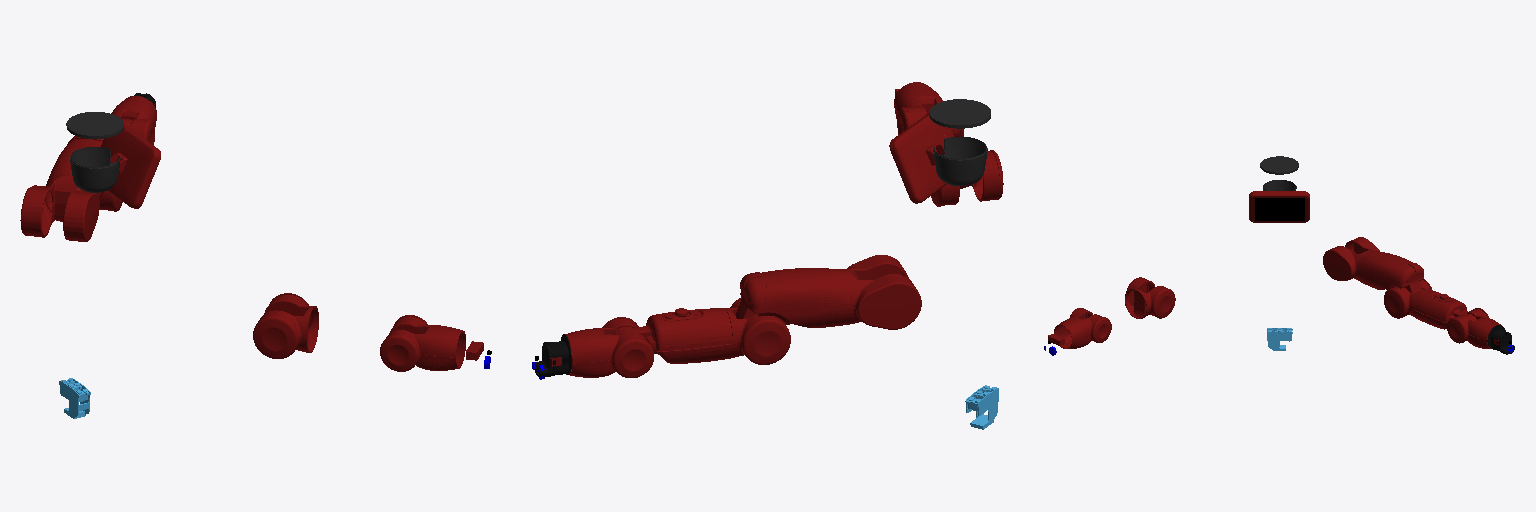
--- Render facts (derived) ---
The picture shows the robot from 3 angles, left to right: view 1: azimuth 30°, elevation 25°; view 2: azimuth 150°, elevation 25°; view 3: azimuth 270°, elevation 25°; orthographic projection.
Model baxter with 49 links and 48 joints (15 revolute, 33 fixed), rooted at base, posed all joints at 0.
Visible links, largest first — view 1: right_lower_forearm, left_lower_shoulder, right_lower_elbow, screen, head, sonar_ring, left_lower_forearm, torso, left_upper_elbow; view 2: left_upper_elbow, left_upper_forearm, left_lower_shoulder, left_lower_forearm, screen, left_lower_elbow, head, right_lower_forearm, right_lower_elbow, sonar_ring, torso, left_wrist; view 3: left_upper_elbow, right_lower_elbow, right_lower_forearm, left_upper_forearm, left_lower_shoulder, left_lower_forearm, display, left_lower_elbow, screen, sonar_ring.
Boxes of the visible links, x1,y1,x2,y2 form: right_lower_forearm: (380,315,465,371); left_lower_shoulder: (20,174,99,241); right_lower_elbow: (253,293,318,358); screen: (101,124,160,208); head: (70,147,120,192); sonar_ring: (66,112,123,138); left_lower_forearm: (111,96,156,144); torso: (59,378,90,418); left_upper_elbow: (45,136,103,212); left_upper_elbow: (736,268,851,327); left_upper_forearm: (611,308,732,363); left_lower_shoulder: (843,255,921,329); left_lower_forearm: (565,317,653,377); screen: (889,113,953,203); left_lower_elbow: (725,297,790,364); head: (933,137,987,185); right_lower_forearm: (894,82,963,136); right_lower_elbow: (931,150,1003,206); sonar_ring: (929,99,990,128); torso: (965,385,998,429); left_wrist: (534,334,571,376); left_upper_elbow: (1357,250,1423,292); right_lower_elbow: (1125,277,1175,318); right_lower_forearm: (1054,308,1111,348); left_upper_forearm: (1412,289,1476,329); left_lower_shoulder: (1323,237,1379,280); left_lower_forearm: (1447,308,1500,348); display: (1255,198,1304,220); left_lower_elbow: (1384,279,1431,318); screen: (1249,191,1309,222); sonar_ring: (1260,156,1298,174).
Bounding box of the posed robot: 0.8683 × 2.06 × 0.9265 m (x, y, z).
11 mesh visuals loaded from 15 distinct referenced files (9 OBJ); not drawn: 7 (reference not matched to a file when rendering).

URDF robot description (baxter):
<?xml version="1.0" ?>
<!-- ============================================================================================== -->
<!-- |                                                                                            | -->
<!-- |    baxter.urdf is DEPRECATED. It is included here for backward compatibility.              | -->
<!-- |    Please use baxter.urdf.xacro by running:                                                | -->
<!-- |$ rosrun xacro xacro.py - -inorder `rospack find baxter_description`/urdf/baxter.urdf.xacro | -->
<!-- |                                                                                            | -->
<!-- ============================================================================================== -->
<robot name="baxter">
  <link name="base">
  </link>
  <link name="torso">
    <visual>
      <origin rpy="0 0 0" xyz="0 0 0"/>
      <geometry>
        <mesh filename="package://baxter_description/meshes/torso/base_link.obj"/>
      </geometry>
    </visual>
    <collision>
      <origin rpy="0 0 0" xyz="0 0 0"/>
      <geometry>
        <mesh filename="package://baxter_description/meshes/torso/base_link_collision.obj"/>
      </geometry>
    </collision>
    <inertial>
      <origin rpy="0 0 0" xyz="0.000000 0.000000 0.000000"/>
      <mass value="35.336455"/>
      <inertia ixx="1.849155" ixy="-0.000354" ixz="-0.154188" iyy="1.662671" iyz="0.003292" izz="0.802239"/>
    </inertial>
  </link>
  <link name="left_torso_itb">
    <inertial>
      <origin rpy="0 0 0" xyz="0.000000 0.000000 0.000000"/>
      <mass value="0.0001"/>
      <inertia ixx="1e-08" ixy="0" ixz="0" iyy="1e-08" iyz="0" izz="1e-08"/>
    </inertial>
  </link>
  <link name="right_torso_itb">
    <inertial>
      <origin rpy="0 0 0" xyz="0.000000 0.000000 0.000000"/>
      <mass value="0.0001"/>
      <inertia ixx="1e-08" ixy="0" ixz="0" iyy="1e-08" iyz="0" izz="1e-08"/>
    </inertial>
  </link>
  <link name="pedestal">
    <visual>
      <origin rpy="0 0 0" xyz="0 0 0"/>
      <geometry>
        <mesh filename="package://baxter_description/meshes/base/PEDESTAL.obj"/>
      </geometry>
      <material name="darkgray">
        <color rgba=".2 .2 .2 1"/>
      </material>
    </visual>
    <collision>
      <origin rpy="0 0 0" xyz="0 0 0"/>
      <geometry>
        <mesh filename="package://baxter_description/meshes/base/pedestal_link_collision.obj"/>
      </geometry>
    </collision>
    <inertial>
      <origin rpy="0 0 0" xyz="0 0 0"/>
      <mass value="60.86397744"/>
      <inertia ixx="5.0635929" ixy="0.00103417" ixz="0.80199628" iyy="6.08689388" iyz="0.00105311" izz="4.96191932"/>
    </inertial>
  </link>
  <link name="head">
    <visual>
      <origin rpy="0 0 0" xyz="0 0 .00953"/>
      <geometry>
        <mesh filename="package://baxter_description/meshes/head/H0.obj"/>
      </geometry>
      <material name="darkgray">
        <color rgba=".2 .2 .2 1"/>
      </material>
    </visual>
    <collision>
      <origin rpy="0 0 0" xyz="0.0 0 0.0"/>
      <geometry>
        <sphere radius="0.001"/>
      </geometry>
    </collision>
    <inertial>
      <origin rpy="0 0 0" xyz="0 0 0"/>
      <mass value="0.547767"/>
      <inertia ixx="0.004641" ixy="0.000159" ixz="0.000242" iyy="0.003295" iyz="-0.001324" izz="0.003415"/>
    </inertial>
  </link>
  <link name="sonar_ring">
    <visual>
      <origin rpy="0 0 0" xyz="-.0347 0 .00953"/>
      <geometry>
        <cylinder length="0.01" radius="0.085"/>
      </geometry>
      <material name="darkgray">
        <color rgba=".2 .2 .2 1"/>
      </material>
    </visual>
    <collision>
      <origin rpy="0 0 0" xyz="0.0 0 0.0"/>
      <geometry>
        <sphere radius="0.001"/>
      </geometry>
    </collision>
    <inertial>
      <origin rpy="0 0 0" xyz="0 0 0"/>
      <mass value="0.0001"/>
      <inertia ixx="1e-08" ixy="0" ixz="0" iyy="1e-08" iyz="0" izz="1e-08"/>
    </inertial>
  </link>
  <link name="screen">
    <visual>
      <origin rpy="0 -1.57079632679 0" xyz="0 -.00953 -.0347"/>
      <geometry>
        <mesh filename="package://baxter_description/meshes/head/H1.obj"/>
      </geometry>
      <material name="darkred">
        <color rgba=".5 .1 .1 1"/>
      </material>
    </visual>
    <collision>
      <origin rpy="0 0 0" xyz="0.0 0 0.0"/>
      <geometry>
        <sphere radius="0.001"/>
      </geometry>
    </collision>
    <inertial>
      <origin rpy="0 0 0" xyz="0 0 0"/>
      <mass value="0.440171"/>
      <inertia ixx="0.004006" ixy="0.000230" ixz="0.000002" iyy="0.002800" iyz="0.000029" izz="0.001509"/>
    </inertial>
  </link>
  <link name="display">
    <visual>
      <origin rpy="0.2617993877991494 0 0" xyz="0 0 0"/>
      <geometry>
        <box size="0.218 0.16 0.001"/>
      </geometry>
      <material name="black">
        <color rgba="0 0 0 1"/>
      </material>
    </visual>
    <inertial>
      <origin rpy="0 0 0" xyz="0 0 0"/>
      <mass value="0.0001"/>
      <inertia ixx="1e-08" ixy="0" ixz="0" iyy="1e-08" iyz="0" izz="1e-08"/>
    </inertial>
  </link>
  <link name="head_camera">
    <inertial>
      <origin rpy="0 0 0" xyz="0 0 0"/>
      <mass value="0.0001"/>
      <inertia ixx="1e-08" ixy="0" ixz="0" iyy="1e-08" iyz="0" izz="1e-08"/>
    </inertial>
  </link>
  <link name="dummyhead1">
    <inertial>
      <origin rpy="0 0 0" xyz="0 0 0"/>
      <mass value="0.0001"/>
      <inertia ixx="1e-08" ixy="0" ixz="0" iyy="1e-08" iyz="0" izz="1e-08"/>
    </inertial>
  </link>
  <link name="collision_head_link_1">
    <visual>
      <origin rpy="0 0 0" xyz="0 0 0"/>
      <geometry>
        <sphere radius="0.001"/>
      </geometry>
      <material name="red">
        <color rgba="0.8 0.3 0.3 0.3"/>
      </material>
    </visual>
    <collision>
      <origin rpy="0 0 0.0" xyz="-0.07 -0.04 0.0"/>
      <geometry>
        <sphere radius="0.22"/>
      </geometry>
    </collision>
    <inertial>
      <origin rpy="0 0 0" xyz="0 0 0"/>
      <mass value="0.0001"/>
      <inertia ixx="1e-08" ixy="0" ixz="0" iyy="1e-08" iyz="0" izz="1e-08"/>
    </inertial>
  </link>
  <link name="collision_head_link_2">
    <visual>
      <origin rpy="0 0 0" xyz="0 0 0"/>
      <geometry>
        <sphere radius="0.001"/>
      </geometry>
      <material name="red">
        <color rgba="0.8 0.3 0.3 0.3"/>
      </material>
    </visual>
    <collision>
      <origin rpy="0 0 0" xyz="-0.07 0.04 0.00"/>
      <geometry>
        <sphere radius="0.22"/>
      </geometry>
    </collision>
    <inertial>
      <origin rpy="0 0 0" xyz="0 0 0"/>
      <mass value="0.0001"/>
      <inertia ixx="1e-08" ixy="0" ixz="0" iyy="1e-08" iyz="0" izz="1e-08"/>
    </inertial>
  </link>
  <joint name="collision_head_1" type="fixed">
    <origin rpy="0 0 0" xyz="0.11 0 0.75"/>
    <parent link="base"/>
    <child link="collision_head_link_1"/>
  </joint>
  <joint name="collision_head_2" type="fixed">
    <origin rpy="0 0 0" xyz="0.11 0 0.75"/>
    <parent link="base"/>
    <child link="collision_head_link_2"/>
  </joint>
  <joint name="dummy" type="fixed">
    <origin rpy="0 0 0" xyz="0 0 0"/>
    <parent link="head"/>
    <child link="dummyhead1"/>
  </joint>
  <joint name="torso_t0" type="fixed">
    <origin rpy="0 0 0" xyz="0 0 0"/>
    <parent link="base"/>
    <child link="torso"/>
    <limit effort="50000" lower="-3.01" upper="3.01" velocity="10000"/>
  </joint>
  <joint name="left_torso_itb_fixed" type="fixed">
    <origin rpy="-1.57079632679 3.1415 0" xyz="-0.08897 0.15593 0.389125"/>
    <parent link="torso"/>
    <child link="left_torso_itb"/>
  </joint>
  <joint name="right_torso_itb_fixed" type="fixed">
    <origin rpy="1.57079632679 0 0" xyz="-0.08897 -0.15593 0.389125"/>
    <parent link="torso"/>
    <child link="right_torso_itb"/>
  </joint>
  <joint name="pedestal_fixed" type="fixed">
    <origin rpy="0 0 0" xyz="0.0 0.0 0.0"/>
    <parent link="torso"/>
    <child link="pedestal"/>
  </joint>
  <joint name="head_pan" type="revolute">
    <origin rpy="0 0 0" xyz="0.06 0 0.686"/>
    <axis xyz="0 0 1"/>
    <parent link="torso"/>
    <child link="head"/>
    <limit effort="50000" lower="-1.57079632679" upper="1.57079632679" velocity="10000"/>
    <dynamics damping="0.7" friction="0.0"/>
  </joint>
  <joint name="head_nod" type="fixed">
    <origin rpy="1.75057 0 1.57079632679" xyz=".1227 0 0"/>
    <parent link="head"/>
    <child link="screen"/>
  </joint>
  <joint name="head_camera" type="fixed">
    <origin rpy="1.75057 0 1.57079632679" xyz="0.12839 0 0.06368"/>
    <parent link="head"/>
    <child link="head_camera"/>
  </joint>
  <joint name="display_joint" type="fixed">
    <origin rpy="0 0 0" xyz="0.0 -0.016 0.0"/>
    <parent link="screen"/>
    <child link="display"/>
  </joint>
  <joint name="sonar_s0" type="fixed">
    <origin rpy="0 0 0" xyz="0.0947 0 .817"/>
    <axis xyz="0 0 1"/>
    <parent link="torso"/>
    <child link="sonar_ring"/>
  </joint>
  <link name="right_arm_mount">
    <!-- all defaults -->
 <gravity>0</gravity>
    <inertial>
      <origin rpy="0 0 0" xyz="0 0 0"/>
      <mass value="0.0001"/>
      <inertia ixx="1e-08" ixy="0" ixz="0" iyy="1e-08" iyz="0" izz="1e-08"/>
    </inertial>
  </link>
  <link name="right_upper_shoulder">
 <gravity>0</gravity>
    <visual>
      <origin rpy="0 0 0" xyz="0 0 0"/>
      <geometry>
        <mesh filename="package://baxter_description/meshes/upper_shoulder/S0.DAE"/>
      </geometry>
      <material name="darkred">
        <color rgba=".5 .1 .1 1"/>
      </material>
    </visual>
    <collision>
      <origin rpy="0 0 0" xyz="0 0 0.1361"/>
      <geometry>
        <cylinder length="0.2722" radius="0.06"/>
      </geometry>
    </collision>
    <inertial>
      <origin rpy="0 0 0" xyz="0.01783 0.00086 0.19127"/>
      <mass value="5.70044"/>
      <inertia ixx="0.04709102262" ixy="0.00012787556" ixz="0.00614870039" iyy="0.03766976455" iyz="0.00078086899" izz="0.03595988478"/>
    </inertial>
  </link>
  <link name="right_lower_shoulder">
 <gravity>0</gravity>
    <visual>
      <origin rpy="0 0 0" xyz="0 0 0"/>
      <geometry>
        <mesh filename="package://baxter_description/meshes/lower_shoulder/S1.DAE"/>
      </geometry>
      <material name="darkred">
        <color rgba=".5 .1 .1 1"/>
      </material>
    </visual>
    <collision>
      <origin rpy="0 0 0" xyz="0 0 0"/>
      <geometry>
        <cylinder length="0.12" radius="0.06"/>
      </geometry>
    </collision>
    <inertial>
      <origin rpy="0 0 0" xyz="0.06845 0.00269 -0.00529"/>
      <mass value="3.22698"/>
      <inertia ixx="0.01175209419" ixy="-0.00030096398" ixz="0.00207675762" iyy="0.0278859752" iyz="-0.00018821993" izz="0.02078749298"/>
    </inertial>
  </link>
  <link name="right_upper_elbow">
 <gravity>0</gravity>
    <visual>
      <origin rpy="0 0 0" xyz="0 0 0"/>
      <geometry>
        <mesh filename="package://baxter_description/meshes/upper_elbow/E0.DAE"/>
      </geometry>
      <material name="darkred">
        <color rgba=".5 .1 .1 1"/>
      </material>
    </visual>
    <collision>
      <origin rpy="0 0 0" xyz="0 0 -0.0535"/>
      <geometry>
        <cylinder length="0.107" radius="0.06"/>
      </geometry>
    </collision>
    <inertial>
      <origin rpy="0 0 0" xyz="-0.00276 0.00132 0.18086"/>
      <mass value="4.31272"/>
      <inertia ixx="0.02661733557" ixy="0.00029270634" ixz="0.00392189887" iyy="0.02844355207" iyz="0.0010838933" izz="0.01248008322"/>
    </inertial>
  </link>
  <link name="right_upper_elbow_visual">
 <gravity>0</gravity>
    <collision>
      <origin rpy="0 0 0" xyz="0 0 0.1365"/>
      <geometry>
        <cylinder length="0.273" radius="0.06"/>
      </geometry>
    </collision>
    <inertial>
      <origin rpy="0 0 0" xyz="0 0 0"/>
      <mass value="0.0001"/>
      <inertia ixx="1e-08" ixy="0" ixz="0" iyy="1e-08" iyz="0" izz="1e-08"/>
    </inertial>
  </link>
  <link name="right_lower_elbow">
 <gravity>0</gravity>
    <visual>
      <origin rpy="0 0 0" xyz="0 0 0"/>
      <geometry>
        <mesh filename="package://baxter_description/meshes/lower_elbow/E1.obj"/>
      </geometry>
      <material name="darkred">
        <color rgba=".5 .1 .1 1"/>
      </material>
    </visual>
    <collision>
      <origin rpy="0 0 0" xyz="0.0 0.0 0.0"/>
      <geometry>
        <cylinder length="0.10" radius="0.06"/>
      </geometry>
    </collision>
    <inertial>
      <origin rpy="0 0 0" xyz="0.02611 0.00159 -0.01117"/>
      <mass value="2.07206"/>
      <inertia ixx="0.00711582686" ixy="0.00036036173" ixz="0.0007459496" iyy="0.01318227876" iyz="-0.00019663418" izz="0.00926852064"/>
    </inertial>
  </link>
  <link name="right_upper_forearm">
 <gravity>0</gravity>
    <visual>
      <origin rpy="0 0 0" xyz="0 0 0"/>
      <geometry>
        <mesh filename="package://baxter_description/meshes/upper_forearm/W0.DAE"/>
      </geometry>
      <material name="darkred">
        <color rgba=".5 .1 .1 1"/>
      </material>
    </visual>
    <collision>
      <origin rpy="0 0 0" xyz="0 0 -0.044"/>
      <geometry>
        <cylinder length="0.088" radius="0.06"/>
      </geometry>
    </collision>
    <inertial>
      <origin rpy="0 0 0" xyz="-0.00168 0.0046 0.13952"/>
      <mass value="2.24665"/>
      <inertia ixx="0.01667742825" ixy="0.00018403705" ixz="0.00018657629" iyy="0.01675457264" iyz="-0.00064732352" izz="0.0037463115"/>
    </inertial>
  </link>
  <link name="right_upper_forearm_visual">
 <gravity>0</gravity>
    <collision>
      <origin rpy="0 0 0" xyz="0 0 0.136"/>
      <geometry>
        <cylinder length="0.272" radius="0.06"/>
      </geometry>
    </collision>
    <inertial>
      <origin rpy="0 0 0" xyz="0 0 0"/>
      <mass value="0.0001"/>
      <inertia ixx="1e-08" ixy="0" ixz="0" iyy="1e-08" iyz="0" izz="1e-08"/>
    </inertial>
  </link>
  <link name="right_arm_itb">
 <gravity>0</gravity>
    <inertial>
      <origin rpy="0 0 0" xyz="0.000000 0.000000 0.000000"/>
      <mass value="0.0001"/>
      <inertia ixx="1e-08" ixy="0" ixz="0" iyy="1e-08" iyz="0" izz="1e-08"/>
    </inertial>
  </link>
  <link name="right_lower_forearm">
 <gravity>0</gravity>
    <visual>
      <origin rpy="0 0 0" xyz="0 0 0"/>
      <geometry>
        <mesh filename="package://baxter_description/meshes/lower_forearm/W1.obj"/>
      </geometry>
      <material name="darkred">
        <color rgba=".5 .1 .1 1"/>
      </material>
    </visual>
    <collision>
      <origin rpy="0 0 0" xyz="0 0 0"/>
      <geometry>
        <cylinder length="0.10" radius="0.06"/>
      </geometry>
    </collision>
    <inertial>
      <origin rpy="0 0 0" xyz="0.06041 0.00697 0.006"/>
      <mass value="1.60979"/>
      <inertia ixx="0.00387607152" ixy="-0.00044384784" ixz="-0.00021115038" iyy="0.00700537914" iyz="0.00015348067" izz="0.0055275524"/>
    </inertial>
  </link>
  <link name="right_wrist">
 <gravity>0</gravity>
    <visual>
      <origin rpy="0 0 0" xyz="0 0 0"/>
      <geometry>
        <mesh filename="package://baxter_description/meshes/wrist/W2.DAE"/>
      </geometry>
      <material name="lightgrey">
        <color rgba=".1 .1 .1 1"/>
      </material>
    </visual>
    <collision>
      <origin rpy="0 0 0" xyz="0 0 0"/>
      <geometry>
        <cylinder length="0.165" radius="0.06"/>
      </geometry>
    </collision>
    <inertial>
      <origin rpy="0 0 0" xyz="0.00198 0.00125 0.01855"/>
      <mass value="0.35093"/>
      <inertia ixx="0.00025289155" ixy="0.00000575311" ixz="-0.00000159345" iyy="0.0002688601" iyz="-0.00000519818" izz="0.0003074118"/>
    </inertial>
  </link>
  <link name="right_hand">
 <gravity>0</gravity>
    <collision>
      <origin rpy="0 0 0" xyz="0 0 -0.0232"/>
      <geometry>
        <cylinder length="0.0464" radius="0.04"/>
      </geometry>
    </collision>
    <inertial>
      <origin rpy="0 0 0" xyz="0.01093 0.00042 -0.01532"/>
      <mass value="0.19125"/>
      <inertia ixx="0.00017588" ixy="0.00000147073" ixz="0.0000243633" iyy="0.00021166377" iyz="0.00000172689" izz="0.00023745397"/>
    </inertial>
  </link>
  <link name="right_hand_camera">
 <gravity>0</gravity>
    <visual>
      <origin rpy="0 0 0" xyz="0 0 0"/>
      <geometry>
        <cylinder length="0.01" radius="0.02"/>
      </geometry>
      <material name="blue">
        <color rgba="0 0 1 0.8"/>
      </material>
    </visual>
    <inertial>
      <origin rpy="0 0 0" xyz="0 0 0"/>
      <mass value="0.0001"/>
      <inertia ixx="1e-08" ixy="0" ixz="0" iyy="1e-08" iyz="0" izz="1e-08"/>
    </inertial>
  </link>
  <link name="right_hand_camera_axis">
 <gravity>0</gravity>
    <inertial>
      <origin rpy="0 0 0" xyz="0 0 0"/>
      <mass value="0.0001"/>
      <inertia ixx="1e-08" ixy="0" ixz="0" iyy="1e-08" iyz="0" izz="1e-08"/>
    </inertial>
  </link>
  <link name="right_hand_range">
 <gravity>0</gravity>
    <visual>
      <origin rpy="0 0 0" xyz="0 0 0"/>
      <geometry>
        <box size="0.005 .02 .005"/>
      </geometry>
      <material name="blue">
        <color rgba="0 0 1 0.8"/>
      </material>
    </visual>
    <inertial>
      <origin rpy="0 0 0" xyz="0 0 0"/>
      <mass value="0.0001"/>
      <inertia ixx="1e-08" ixy="0" ixz="0" iyy="1e-08" iyz="0" izz="1e-08"/>
    </inertial>
  </link>
  <link name="right_hand_accelerometer">
 <gravity>0</gravity>
    <visual>
      <origin rpy="0 0 0" xyz="0 0 0"/>
      <geometry>
        <box size="0.01 0.01 0.01"/>
      </geometry>
      <material name="black">
        <color rgba="0 0 0 1"/>
      </material>
    </visual>
    <inertial>
      <origin rpy="0 0 0" xyz="0.000000 0.000000 0.000000"/>
      <mass value="0.0001"/>
      <inertia ixx="1e-08" ixy="0" ixz="0" iyy="1e-08" iyz="0" izz="1e-08"/>
    </inertial>
  </link>
  <link name="right_gripper_base">
 <gravity>0</gravity>
    <visual>
      <origin rpy="0 0 0" xyz="0 0 -0.02"/>
      <geometry>
        <box size="0.025 0.075 0.035"/>
      </geometry>
      <material name="darkred">
        <color rgba=".5 .1 .1 1"/>
      </material>
    </visual>
    <inertial>
      <origin rpy="0 0 0" xyz="0.000000 0.000000 0.000000"/>
      <mass value="0.0001"/>
      <inertia ixx="1e-08" ixy="0" ixz="0" iyy="1e-08" iyz="0" izz="1e-08"/>
    </inertial>
  </link>
  <link name="right_gripper">
 <gravity>0</gravity>
    <visual>
      <origin rpy="0 0 0" xyz="0 0 0"/>
      <geometry>
        <box size="0.01 0.01 0.01"/>
      </geometry>
      <material name="black">
        <color rgba="0 0 0 1"/>
      </material>
    </visual>
    <inertial>
      <origin rpy="0 0 0" xyz="0.000000 0.000000 0.000000"/>
      <mass value="0.0001"/>
      <inertia ixx="1e-08" ixy="0" ixz="0" iyy="1e-08" iyz="0" izz="1e-08"/>
    </inertial>
  </link>
  <joint name="right_torso_arm_mount" type="fixed">
    <origin rpy="0 0 -0.7854" xyz="0.024645 -0.219645 0.118588"/>
    <parent link="torso"/>
    <child link="right_arm_mount"/>
  </joint>
  <joint name="right_s0" type="revolute">
    <origin rpy="0 0 0" xyz="0.055695 0 0.011038"/>
    <axis xyz="0 0 1"/>
    <parent link="right_arm_mount"/>
    <child link="right_upper_shoulder"/>
    <limit effort="50.0" lower="-1.70167993878" upper="1.70167993878" velocity="1.5"/>
    <dynamics damping="0.7" friction="0.0"/>
  </joint>
  <joint name="right_s1" type="revolute">
    <origin rpy="-1.57079632679 0 0" xyz="0.069 0 0.27035"/>
    <axis xyz="0 0 1"/>
    <parent link="right_upper_shoulder"/>
    <child link="right_lower_shoulder"/>
    <limit effort="100.0" lower="-2.147" upper="1.047" velocity="1.5"/>
    <dynamics damping="0.7" friction="0.0"/>
  </joint>
  <joint name="right_e0" type="revolute">
    <origin rpy="1.57079632679 0 1.57079632679" xyz="0.102 0 0"/>
    <axis xyz="0 0 1"/>
    <parent link="right_lower_shoulder"/>
    <child link="right_upper_elbow"/>
    <limit effort="50.0" lower="-3.05417993878" upper="3.05417993878" velocity="1.5"/>
    <dynamics damping="0.7" friction="0.0"/>
  </joint>
  <joint name="right_e0_fixed" type="fixed">
    <origin rpy="1.57079632679 0 1.57079632679" xyz="0.107 0 0"/>
    <axis xyz="0 0 1"/>
    <parent link="right_lower_shoulder"/>
    <child link="right_upper_elbow_visual"/>
  </joint>
  <joint name="right_e1" type="revolute">
    <origin rpy="-1.57079632679 -1.57079632679 0" xyz="0.069 0 0.26242"/>
    <axis xyz="0 0 1"/>
    <parent link="right_upper_elbow"/>
    <child link="right_lower_elbow"/>
    <limit effort="50.0" lower="-0.05" upper="2.618" velocity="1.5"/>
    <dynamics damping="0.7" friction="0.0"/>
  </joint>
  <joint name="right_w0" type="revolute">
    <origin rpy="1.57079632679 0 1.57079632679" xyz="0.10359 0 0"/>
    <axis xyz="0 0 1"/>
    <parent link="right_lower_elbow"/>
    <child link="right_upper_forearm"/>
    <limit effort="15.0" lower="-3.059" upper="3.059" velocity="4.0"/>
    <dynamics damping="0.7" friction="0.0"/>
  </joint>
  <joint name="right_w0_fixed" type="fixed">
    <origin rpy="1.57079632679 0 1.57079632679" xyz="0.088 0 0"/>
    <axis xyz="0 0 1"/>
    <parent link="right_lower_elbow"/>
    <child link="right_upper_forearm_visual"/>
  </joint>
  <joint name="right_w0_to_itb_fixed" type="fixed">
    <origin rpy="-1.57079632679 0 1.57079632679" xyz="-0.0565 0 0.12"/>
    <axis xyz="0 0 1"/>
    <parent link="right_upper_forearm"/>
    <child link="right_arm_itb"/>
  </joint>
  <joint name="right_w1" type="revolute">
    <origin rpy="-1.57079632679 -1.57079632679 0" xyz="0.01 0 0.2707"/>
    <axis xyz="0 0 1"/>
    <parent link="right_upper_forearm"/>
    <child link="right_lower_forearm"/>
    <limit effort="15.0" lower="-1.57079632679" upper="2.094" velocity="4.0"/>
    <dynamics damping="0.7" friction="0.0"/>
  </joint>
  <joint name="right_w2" type="revolute">
    <origin rpy="1.57079632679 0 1.57079632679" xyz="0.115975 0 0"/>
    <axis xyz="0 0 1"/>
    <parent link="right_lower_forearm"/>
    <child link="right_wrist"/>
    <limit effort="15.0" lower="-3.059" upper="3.059" velocity="4.0"/>
    <dynamics damping="0.7" friction="0.0"/>
  </joint>
  <joint name="right_hand" type="fixed">
    <origin rpy="0 0 0" xyz="0 0 0.11355"/>
    <axis xyz="0 0 1"/>
    <parent link="right_wrist"/>
    <child link="right_hand"/>
    <dynamics damping="0.7" friction="0.0"/>
  </joint>
  <joint name="right_hand_camera" type="fixed">
    <origin rpy="0 0 -1.57079633" xyz="0.03825 0.012 0.015355"/>
    <parent link="right_hand"/>
    <child link="right_hand_camera"/>
  </joint>
  <joint name="right_hand_camera_axis" type="fixed">
    <origin rpy="0 0 0" xyz="0.03825 0.012 0.015355"/>
    <parent link="right_hand"/>
    <child link="right_hand_camera_axis"/>
  </joint>
  <joint name="right_hand_range" type="fixed">
    <origin rpy="0 -1.57079632679 -1.57079632679" xyz="0.032 -0.020245 0.0288"/>
    <parent link="right_hand"/>
    <child link="right_hand_range"/>
  </joint>
  <joint name="right_hand_accelerometer" type="fixed">
    <origin rpy="0 0 0" xyz="0.00198 0.000133 -0.0146"/>
    <parent link="right_hand"/>
    <child link="right_hand_accelerometer"/>
  </joint>
  <joint name="right_gripper_base" type="fixed">
    <origin rpy="0 0 0" xyz="0 0 0"/>
    <parent link="right_hand"/>
    <child link="right_gripper_base"/>
  </joint>
  <joint name="right_endpoint" type="fixed">
    <origin rpy="0 0 0" xyz="0.0 0 0.025"/>
    <parent link="right_gripper_base"/>
    <child link="right_gripper"/>
  </joint>
  <link name="left_arm_mount">
    <!-- all defaults -->
 <gravity>0</gravity>
    <inertial>
      <origin rpy="0 0 0" xyz="0 0 0"/>
      <mass value="0.0001"/>
      <inertia ixx="1e-08" ixy="0" ixz="0" iyy="1e-08" iyz="0" izz="1e-08"/>
    </inertial>
  </link>
  <link name="left_upper_shoulder">
 <gravity>0</gravity>
    <visual>
      <origin rpy="0 0 0" xyz="0 0 0"/>
      <geometry>
        <mesh filename="package://baxter_description/meshes/upper_shoulder/S0.DAE"/>
      </geometry>
      <material name="darkred">
        <color rgba=".5 .1 .1 1"/>
      </material>
    </visual>
    <collision>
      <origin rpy="0 0 0" xyz="0 0 0.1361"/>
      <geometry>
        <cylinder length="0.2722" radius="0.06"/>
      </geometry>
    </collision>
    <inertial>
      <origin rpy="0 0 0" xyz="0.01783 0.00086 0.19127"/>
      <mass value="5.70044"/>
      <inertia ixx="0.04709102262" ixy="0.00012787556" ixz="0.00614870039" iyy="0.03766976455" iyz="0.00078086899" izz="0.03595988478"/>
    </inertial>
  </link>
  <link name="left_lower_shoulder">
 <gravity>0</gravity>
    <visual>
      <origin rpy="0 0 0" xyz="0 0 0"/>
      <geometry>
        <mesh filename="package://baxter_description/meshes/lower_shoulder/S1.obj"/>
      </geometry>
      <material name="darkred">
        <color rgba=".5 .1 .1 1"/>
      </material>
    </visual>
    <collision>
      <origin rpy="0 0 0" xyz="0 0 0"/>
      <geometry>
        <cylinder length="0.12" radius="0.06"/>
      </geometry>
    </collision>
    <inertial>
      <origin rpy="0 0 0" xyz="0.06845 0.00269 -0.00529"/>
      <mass value="3.22698"/>
      <inertia ixx="0.01175209419" ixy="-0.00030096398" ixz="0.00207675762" iyy="0.0278859752" iyz="-0.00018821993" izz="0.02078749298"/>
    </inertial>
  </link>
  <link name="left_upper_elbow">
 <gravity>0</gravity>
    <visual>
      <origin rpy="0 0 0" xyz="0 0 0"/>
      <geometry>
        <mesh filename="package://baxter_description/meshes/upper_elbow/E0.obj"/>
      </geometry>
      <material name="darkred">
        <color rgba=".5 .1 .1 1"/>
      </material>
    </visual>
    <collision>
      <origin rpy="0 0 0" xyz="0 0 -0.0535"/>
      <geometry>
        <cylinder length="0.107" radius="0.06"/>
      </geometry>
    </collision>
    <inertial>
      <origin rpy="0 0 0" xyz="-0.00276 0.00132 0.18086"/>
      <mass value="4.31272"/>
      <inertia ixx="0.02661733557" ixy="0.00029270634" ixz="0.00392189887" iyy="0.02844355207" iyz="0.0010838933" izz="0.01248008322"/>
    </inertial>
  </link>
  <link name="left_upper_elbow_visual">
 <gravity>0</gravity>
    <collision>
      <origin rpy="0 0 0" xyz="0 0 0.1365"/>
      <geometry>
        <cylinder length="0.273" radius="0.06"/>
      </geometry>
    </collision>
    <inertial>
      <origin rpy="0 0 0" xyz="0 0 0"/>
      <mass value="0.0001"/>
      <inertia ixx="1e-08" ixy="0" ixz="0" iyy="1e-08" iyz="0" izz="1e-08"/>
    </inertial>
  </link>
  <link name="left_lower_elbow">
 <gravity>0</gravity>
    <visual>
      <origin rpy="0 0 0" xyz="0 0 0"/>
      <geometry>
        <mesh filename="package://baxter_description/meshes/lower_elbow/E1.obj"/>
      </geometry>
      <material name="darkred">
        <color rgba=".5 .1 .1 1"/>
      </material>
    </visual>
    <collision>
      <origin rpy="0 0 0" xyz="0.0 0.0 0.0"/>
      <geometry>
        <cylinder length="0.10" radius="0.06"/>
      </geometry>
    </collision>
    <inertial>
      <origin rpy="0 0 0" xyz="0.02611 0.00159 -0.01117"/>
      <mass value="2.07206"/>
      <inertia ixx="0.00711582686" ixy="0.00036036173" ixz="0.0007459496" iyy="0.01318227876" iyz="-0.00019663418" izz="0.00926852064"/>
    </inertial>
  </link>
  <link name="left_upper_forearm">
 <gravity>0</gravity>
    <visual>
      <origin rpy="0 0 0" xyz="0 0 0"/>
      <geometry>
        <mesh filename="package://baxter_description/meshes/upper_forearm/W0.obj"/>
      </geometry>
      <material name="darkred">
        <color rgba=".5 .1 .1 1"/>
      </material>
    </visual>
    <collision>
      <origin rpy="0 0 0" xyz="0 0 -0.044"/>
      <geometry>
        <cylinder length="0.088" radius="0.06"/>
      </geometry>
    </collision>
    <inertial>
      <origin rpy="0 0 0" xyz="-0.00168 0.0046 0.13952"/>
      <mass value="2.24665"/>
      <inertia ixx="0.01667742825" ixy="0.00018403705" ixz="0.00018657629" iyy="0.01675457264" iyz="-0.00064732352" izz="0.0037463115"/>
    </inertial>
  </link>
  <link name="left_upper_forearm_visual">
 <gravity>0</gravity>
    <collision>
      <origin rpy="0 0 0" xyz="0 0 0.136"/>
      <geometry>
        <cylinder length="0.272" radius="0.06"/>
      </geometry>
    </collision>
    <inertial>
      <origin rpy="0 0 0" xyz="0 0 0"/>
      <mass value="0.0001"/>
      <inertia ixx="1e-08" ixy="0" ixz="0" iyy="1e-08" iyz="0" izz="1e-08"/>
    </inertial>
  </link>
  <link name="left_arm_itb">
 <gravity>0</gravity>
    <inertial>
      <origin rpy="0 0 0" xyz="0.000000 0.000000 0.000000"/>
      <mass value="0.0001"/>
      <inertia ixx="1e-08" ixy="0" ixz="0" iyy="1e-08" iyz="0" izz="1e-08"/>
    </inertial>
  </link>
  <link name="left_lower_forearm">
 <gravity>0</gravity>
    <visual>
      <origin rpy="0 0 0" xyz="0 0 0"/>
      <geometry>
        <mesh filename="package://baxter_description/meshes/lower_forearm/W1.obj"/>
      </geometry>
      <material name="darkred">
        <color rgba=".5 .1 .1 1"/>
      </material>
    </visual>
    <collision>
      <origin rpy="0 0 0" xyz="0 0 0"/>
      <geometry>
        <cylinder length="0.10" radius="0.06"/>
      </geometry>
    </collision>
    <inertial>
      <origin rpy="0 0 0" xyz="0.06041 0.00697 0.006"/>
      <mass value="1.60979"/>
      <inertia ixx="0.00387607152" ixy="-0.00044384784" ixz="-0.00021115038" iyy="0.00700537914" iyz="0.00015348067" izz="0.0055275524"/>
    </inertial>
  </link>
  <link name="left_wrist">
 <gravity>0</gravity>
    <visual>
      <origin rpy="0 0 0" xyz="0 0 0"/>
      <geometry>
        <mesh filename="package://baxter_description/meshes/wrist/W2.obj"/>
      </geometry>
      <material name="lightgrey">
        <color rgba=".1 .1 .1 1"/>
      </material>
    </visual>
    <collision>
      <origin rpy="0 0 0" xyz="0 0 0"/>
      <geometry>
        <cylinder length="0.165" radius="0.06"/>
      </geometry>
    </collision>
    <inertial>
      <origin rpy="0 0 0" xyz="0.00198 0.00125 0.01855"/>
      <mass value="0.35093"/>
      <inertia ixx="0.00025289155" ixy="0.00000575311" ixz="-0.00000159345" iyy="0.0002688601" iyz="-0.00000519818" izz="0.0003074118"/>
    </inertial>
  </link>
  <link name="left_hand">
 <gravity>0</gravity>
    <collision>
      <origin rpy="0 0 0" xyz="0 0 -0.0232"/>
      <geometry>
        <cylinder length="0.0464" radius="0.04"/>
      </geometry>
    </collision>
    <inertial>
      <origin rpy="0 0 0" xyz="0.01093 0.00042 -0.01532"/>
      <mass value="0.19125"/>
      <inertia ixx="0.00017588" ixy="0.00000147073" ixz="0.0000243633" iyy="0.00021166377" iyz="0.00000172689" izz="0.00023745397"/>
    </inertial>
  </link>
  <link name="left_hand_camera">
 <gravity>0</gravity>
    <visual>
      <origin rpy="0 0 0" xyz="0 0 0"/>
      <geometry>
        <cylinder length="0.01" radius="0.02"/>
      </geometry>
      <material name="blue">
        <color rgba="0 0 1 0.8"/>
      </material>
    </visual>
    <inertial>
      <origin rpy="0 0 0" xyz="0 0 0"/>
      <mass value="0.0001"/>
      <inertia ixx="1e-08" ixy="0" ixz="0" iyy="1e-08" iyz="0" izz="1e-08"/>
    </inertial>
  </link>
  <link name="left_hand_camera_axis">
 <gravity>0</gravity>
    <inertial>
      <origin rpy="0 0 0" xyz="0 0 0"/>
      <mass value="0.0001"/>
      <inertia ixx="1e-08" ixy="0" ixz="0" iyy="1e-08" iyz="0" izz="1e-08"/>
    </inertial>
  </link>
  <link name="left_hand_range">
 <gravity>0</gravity>
    <visual>
      <origin rpy="0 0 0" xyz="0 0 0"/>
      <geometry>
        <box size="0.005 .02 .005"/>
      </geometry>
      <material name="blue">
        <color rgba="0 0 1 0.8"/>
      </material>
    </visual>
    <inertial>
      <origin rpy="0 0 0" xyz="0 0 0"/>
      <mass value="0.0001"/>
      <inertia ixx="1e-08" ixy="0" ixz="0" iyy="1e-08" iyz="0" izz="1e-08"/>
    </inertial>
  </link>
  <link name="left_hand_accelerometer">
 <gravity>0</gravity>
    <visual>
      <origin rpy="0 0 0" xyz="0 0 0"/>
      <geometry>
        <box size="0.01 0.01 0.01"/>
      </geometry>
      <material name="black">
        <color rgba="0 0 0 1"/>
      </material>
    </visual>
    <inertial>
      <origin rpy="0 0 0" xyz="0.000000 0.000000 0.000000"/>
      <mass value="0.0001"/>
      <inertia ixx="1e-08" ixy="0" ixz="0" iyy="1e-08" iyz="0" izz="1e-08"/>
    </inertial>
  </link>
  <link name="left_gripper_base">
 <gravity>0</gravity>
    <visual>
      <origin rpy="0 0 0" xyz="0 0 -0.02"/>
      <geometry>
        <box size="0.025 0.075 0.035"/>
      </geometry>
      <material name="darkred">
        <color rgba=".5 .1 .1 1"/>
      </material>
    </visual>
    <inertial>
      <origin rpy="0 0 0" xyz="0.000000 0.000000 0.000000"/>
      <mass value="0.0001"/>
      <inertia ixx="1e-08" ixy="0" ixz="0" iyy="1e-08" iyz="0" izz="1e-08"/>
    </inertial>
  </link>
  <link name="left_gripper">
 <gravity>0</gravity>
    <visual>
      <origin rpy="0 0 0" xyz="0 0 0"/>
      <geometry>
        <box size="0.01 0.01 0.01"/>
      </geometry>
      <material name="black">
        <color rgba="0 0 0 1"/>
      </material>
    </visual>
    <inertial>
      <origin rpy="0 0 0" xyz="0.000000 0.000000 0.000000"/>
      <mass value="0.0001"/>
      <inertia ixx="1e-08" ixy="0" ixz="0" iyy="1e-08" iyz="0" izz="1e-08"/>
    </inertial>
  </link>
  <joint name="left_torso_arm_mount" type="fixed">
    <origin rpy="0 0 0.7854" xyz="0.024645 0.219645 0.118588"/>
    <parent link="torso"/>
    <child link="left_arm_mount"/>
  </joint>
  <joint name="left_s0" type="revolute">
    <origin rpy="0 0 0" xyz="0.055695 0 0.011038"/>
    <axis xyz="0 0 1"/>
    <parent link="left_arm_mount"/>
    <child link="left_upper_shoulder"/>
    <limit effort="50.0" lower="-1.70167993878" upper="1.70167993878" velocity="1.5"/>
    <dynamics damping="0.7" friction="0.0"/>
  </joint>
  <joint name="left_s1" type="revolute">
    <origin rpy="-1.57079632679 0 0" xyz="0.069 0 0.27035"/>
    <axis xyz="0 0 1"/>
    <parent link="left_upper_shoulder"/>
    <child link="left_lower_shoulder"/>
    <limit effort="100.0" lower="-2.147" upper="1.047" velocity="1.5"/>
    <dynamics damping="0.7" friction="0.0"/>
  </joint>
  <joint name="left_e0" type="revolute">
    <origin rpy="1.57079632679 0 1.57079632679" xyz="0.102 0 0"/>
    <axis xyz="0 0 1"/>
    <parent link="left_lower_shoulder"/>
    <child link="left_upper_elbow"/>
    <limit effort="50.0" lower="-3.05417993878" upper="3.05417993878" velocity="1.5"/>
    <dynamics damping="0.7" friction="0.0"/>
  </joint>
  <joint name="left_e0_fixed" type="fixed">
    <origin rpy="1.57079632679 0 1.57079632679" xyz="0.107 0 0"/>
    <axis xyz="0 0 1"/>
    <parent link="left_lower_shoulder"/>
    <child link="left_upper_elbow_visual"/>
  </joint>
  <joint name="left_e1" type="revolute">
    <origin rpy="-1.57079632679 -1.57079632679 0" xyz="0.069 0 0.26242"/>
    <axis xyz="0 0 1"/>
    <parent link="left_upper_elbow"/>
    <child link="left_lower_elbow"/>
    <limit effort="50.0" lower="-0.05" upper="2.618" velocity="1.5"/>
    <dynamics damping="0.7" friction="0.0"/>
  </joint>
  <joint name="left_w0" type="revolute">
    <origin rpy="1.57079632679 0 1.57079632679" xyz="0.10359 0 0"/>
    <axis xyz="0 0 1"/>
    <parent link="left_lower_elbow"/>
    <child link="left_upper_forearm"/>
    <limit effort="15.0" lower="-3.059" upper="3.059" velocity="4.0"/>
    <dynamics damping="0.7" friction="0.0"/>
  </joint>
  <joint name="left_w0_fixed" type="fixed">
    <origin rpy="1.57079632679 0 1.57079632679" xyz="0.088 0 0"/>
    <axis xyz="0 0 1"/>
    <parent link="left_lower_elbow"/>
    <child link="left_upper_forearm_visual"/>
  </joint>
  <joint name="left_w0_to_itb_fixed" type="fixed">
    <origin rpy="-1.57079632679 0 1.57079632679" xyz="-0.0565 0 0.12"/>
    <axis xyz="0 0 1"/>
    <parent link="left_upper_forearm"/>
    <child link="left_arm_itb"/>
  </joint>
  <joint name="left_w1" type="revolute">
    <origin rpy="-1.57079632679 -1.57079632679 0" xyz="0.01 0 0.2707"/>
    <axis xyz="0 0 1"/>
    <parent link="left_upper_forearm"/>
    <child link="left_lower_forearm"/>
    <limit effort="15.0" lower="-1.57079632679" upper="2.094" velocity="4.0"/>
    <dynamics damping="0.7" friction="0.0"/>
  </joint>
  <joint name="left_w2" type="revolute">
    <origin rpy="1.57079632679 0 1.57079632679" xyz="0.115975 0 0"/>
    <axis xyz="0 0 1"/>
    <parent link="left_lower_forearm"/>
    <child link="left_wrist"/>
    <limit effort="15.0" lower="-3.059" upper="3.059" velocity="4.0"/>
    <dynamics damping="0.7" friction="0.0"/>
  </joint>
  <joint name="left_hand" type="fixed">
    <origin rpy="0 0 0" xyz="0 0 0.11355"/>
    <axis xyz="0 0 1"/>
    <parent link="left_wrist"/>
    <child link="left_hand"/>
    <dynamics damping="0.7" friction="0.0"/>
  </joint>
  <joint name="left_hand_camera" type="fixed">
    <origin rpy="0 0 -1.57079633" xyz="0.03825 0.012 0.015355"/>
    <parent link="left_hand"/>
    <child link="left_hand_camera"/>
  </joint>
  <joint name="left_hand_camera_axis" type="fixed">
    <origin rpy="0 0 0" xyz="0.03825 0.012 0.015355"/>
    <parent link="left_hand"/>
    <child link="left_hand_camera_axis"/>
  </joint>
  <joint name="left_hand_range" type="fixed">
    <origin rpy="0 -1.57079632679 -1.57079632679" xyz="0.032 -0.020245 0.0288"/>
    <parent link="left_hand"/>
    <child link="left_hand_range"/>
  </joint>
  <joint name="left_hand_accelerometer" type="fixed">
    <origin rpy="0 0 0" xyz="0.00198 0.000133 -0.0146"/>
    <parent link="left_hand"/>
    <child link="left_hand_accelerometer"/>
  </joint>
  <joint name="left_gripper_base" type="fixed">
    <origin rpy="0 0 0" xyz="0 0 0"/>
    <parent link="left_hand"/>
    <child link="left_gripper_base"/>
  </joint>
  <joint name="left_endpoint" type="fixed">
    <origin rpy="0 0 0" xyz="0.0 0 0.025"/>
    <parent link="left_gripper_base"/>
    <child link="left_gripper"/>
  </joint>

  <!-- Transmissions -->

  <!-- Right Arm -->
  <transmission name="right_tran1">
    <type>transmission_interface/SimpleTransmission</type>
    <joint name="right_s0">
      <hardwareInterface>EffortJointInterface</hardwareInterface>
    </joint>
    <actuator name="right_motor1">
      <hardwareInterface>EffortJointInterface</hardwareInterface>
      <mechanicalReduction>1</mechanicalReduction>
    </actuator>
  </transmission>
  <transmission name="right_tran2">
    <type>transmission_interface/SimpleTransmission</type>
    <joint name="right_s1">
      <hardwareInterface>EffortJointInterface</hardwareInterface>
    </joint>
    <actuator name="right_motor2">
      <hardwareInterface>EffortJointInterface</hardwareInterface>
      <mechanicalReduction>1</mechanicalReduction>
    </actuator>
  </transmission>
  <transmission name="right_tran3">
    <type>transmission_interface/SimpleTransmission</type>
    <joint name="right_e0">
      <hardwareInterface>EffortJointInterface</hardwareInterface>
    </joint>
    <actuator name="right_motor3">
      <hardwareInterface>EffortJointInterface</hardwareInterface>
      <mechanicalReduction>1</mechanicalReduction>
    </actuator>
  </transmission>
  <transmission name="right_tran4">
    <type>transmission_interface/SimpleTransmission</type>
    <joint name="right_e1">
      <hardwareInterface>EffortJointInterface</hardwareInterface>
    </joint>
    <actuator name="right_motor4">
      <hardwareInterface>EffortJointInterface</hardwareInterface>
      <mechanicalReduction>1</mechanicalReduction>
    </actuator>
  </transmission>
  <transmission name="right_tran5">
    <type>transmission_interface/SimpleTransmission</type>
    <joint name="right_w0">
      <hardwareInterface>EffortJointInterface</hardwareInterface>
    </joint>
    <actuator name="right_motor5">
      <hardwareInterface>EffortJointInterface</hardwareInterface>
      <mechanicalReduction>1</mechanicalReduction>
    </actuator>
  </transmission>
  <transmission name="right_tran6">
    <type>transmission_interface/SimpleTransmission</type>
    <joint name="right_w1">
      <hardwareInterface>EffortJointInterface</hardwareInterface>
    </joint>
    <actuator name="right_motor6">
      <hardwareInterface>EffortJointInterface</hardwareInterface>
      <mechanicalReduction>1</mechanicalReduction>
    </actuator>
  </transmission>
  <transmission name="right_tran7">
    <type>transmission_interface/SimpleTransmission</type>
    <joint name="right_w2">
      <hardwareInterface>EffortJointInterface</hardwareInterface>
    </joint>
    <actuator name="right_motor7">
      <hardwareInterface>EffortJointInterface</hardwareInterface>
      <mechanicalReduction>1</mechanicalReduction>
    </actuator>
  </transmission>

  <!-- Left Arm -->
  <transmission name="left_tran1">
    <type>transmission_interface/SimpleTransmission</type>
    <joint name="left_s0">
      <hardwareInterface>EffortJointInterface</hardwareInterface>
    </joint>
    <actuator name="left_motor1">
      <hardwareInterface>EffortJointInterface</hardwareInterface>
      <mechanicalReduction>1</mechanicalReduction>
    </actuator>
  </transmission>
  <transmission name="left_tran2">
    <type>transmission_interface/SimpleTransmission</type>
    <joint name="left_s1">      
      <hardwareInterface>EffortJointInterface</hardwareInterface>
    </joint>
    <actuator name="left_motor2">
      <hardwareInterface>EffortJointInterface</hardwareInterface>
      <mechanicalReduction>1</mechanicalReduction>
    </actuator>
  </transmission>
  <transmission name="left_tran3">
    <type>transmission_interface/SimpleTransmission</type>
    <joint name="left_e0">
      <hardwareInterface>EffortJointInterface</hardwareInterface>
    </joint>
    <actuator name="left_motor3">
      <hardwareInterface>EffortJointInterface</hardwareInterface>
      <mechanicalReduction>1</mechanicalReduction>
    </actuator>
  </transmission>
  <transmission name="left_tran4">
    <type>transmission_interface/SimpleTransmission</type>
    <joint name="left_e1">
      <hardwareInterface>EffortJointInterface</hardwareInterface>
    </joint>
    <actuator name="left_motor4">
      <hardwareInterface>EffortJointInterface</hardwareInterface>
      <mechanicalReduction>1</mechanicalReduction>
    </actuator>
  </transmission>
  <transmission name="left_tran5">
    <type>transmission_interface/SimpleTransmission</type>
    <joint name="left_w0">
      <hardwareInterface>EffortJointInterface</hardwareInterface>
    </joint>
    <actuator name="left_motor5">
      <hardwareInterface>EffortJointInterface</hardwareInterface>
      <mechanicalReduction>1</mechanicalReduction>
    </actuator>
  </transmission>
  <transmission name="left_tran6">
    <type>transmission_interface/SimpleTransmission</type>
    <joint name="left_w1">
      <hardwareInterface>EffortJointInterface</hardwareInterface>
    </joint>
    <actuator name="left_motor6">
      <hardwareInterface>EffortJointInterface</hardwareInterface>
      <mechanicalReduction>1</mechanicalReduction>
    </actuator>
  </transmission>
  <transmission name="left_tran7">
    <type>transmission_interface/SimpleTransmission</type>
    <joint name="left_w2">
      <hardwareInterface>EffortJointInterface</hardwareInterface>
    </joint>
    <actuator name="left_motor7">
      <hardwareInterface>EffortJointInterface</hardwareInterface>
      <mechanicalReduction>1</mechanicalReduction>
    </actuator>
  </transmission>

  <!-- Head -->
  <transmission name="head1">
    <type>transmission_interface/SimpleTransmission</type>
    <joint name="head_pan">
      <hardwareInterface>EffortJointInterface</hardwareInterface>
    </joint>
    <actuator name="head_motor1">
      <hardwareInterface>EffortJointInterface</hardwareInterface>
      <mechanicalReduction>1</mechanicalReduction>
    </actuator>
  </transmission>

  <!-- ros_control plugin -->
  <gazebo>
    <plugin name="baxter_ros_control" filename="libbaxter_gazebo_ros_control.so">
      <robotNamespace>/robot</robotNamespace>
    </plugin>
  </gazebo>

  <!-- Gazebo-Specific Link Properties -->
  <gazebo reference="torso">
    <selfCollide>true</selfCollide>
  </gazebo>
  <gazebo reference="head_pan">
    <implicitSpringDamper>1</implicitSpringDamper>
  </gazebo>
  <gazebo reference="right_s0">
    <implicitSpringDamper>1</implicitSpringDamper>
  </gazebo>
  <gazebo reference="right_s1">
    <implicitSpringDamper>1</implicitSpringDamper>
  </gazebo>
  <gazebo reference="right_e0">
    <implicitSpringDamper>1</implicitSpringDamper>
  </gazebo>
  <gazebo reference="right_e1">
    <implicitSpringDamper>1</implicitSpringDamper>
  </gazebo>
  <gazebo reference="right_w0">
    <implicitSpringDamper>1</implicitSpringDamper>
  </gazebo>
  <gazebo reference="right_w1">
    <implicitSpringDamper>1</implicitSpringDamper>
  </gazebo>
  <gazebo reference="right_w2">
    <implicitSpringDamper>1</implicitSpringDamper>
  </gazebo>
  <gazebo reference="left_s0">
    <implicitSpringDamper>1</implicitSpringDamper>
  </gazebo>
  <gazebo reference="left_s1">
    <implicitSpringDamper>1</implicitSpringDamper>
  </gazebo>
  <gazebo reference="left_e0">
    <implicitSpringDamper>1</implicitSpringDamper>
  </gazebo>
  <gazebo reference="left_e1">
    <implicitSpringDamper>1</implicitSpringDamper>
  </gazebo>
  <gazebo reference="left_w0">
    <implicitSpringDamper>1</implicitSpringDamper>
  </gazebo>
  <gazebo reference="left_w1">
    <implicitSpringDamper>1</implicitSpringDamper>
  </gazebo>
  <gazebo reference="left_w2">
    <implicitSpringDamper>1</implicitSpringDamper>
  </gazebo>
  <gazebo reference="head_camera">
    <sensor name="head_camera" type="camera">
      <update_rate>30.0</update_rate>
      <camera name="head_camera">
        <pose>0.0 0.21 0.0 0.0 -0.8 -1.570796327 </pose>
        <horizontal_fov>1.3962634</horizontal_fov>
        <image>
          <width>800</width>
          <height>800</height>
          <format>R8G8B8</format>
        </image>
        <clip>
          <near>0.02</near>
          <far>300</far>
        </clip>
        <noise>
          <type>gaussian</type>
          <mean>0.0</mean>
          <stddev>0.007</stddev>
        </noise>
      </camera>
      <plugin filename="libgazebo_ros_camera.so" name="camera_controller">
        <alwaysOn>true</alwaysOn>
        <updateRate>0.0</updateRate>
        <cameraName>head_camera</cameraName>
        <imageTopicName>image</imageTopicName>
        <cameraInfoTopicName>camera_info</cameraInfoTopicName>
        <frameName>head_camera</frameName>
        <hackBaseline>0.07</hackBaseline>
        <distortionK1>0.0</distortionK1>
        <distortionK2>0.0</distortionK2>
        <distortionK3>0.0</distortionK3>
        <distortionT1>0.0</distortionT1>
        <distortionT2>0.0</distortionT2>
        <robotNamespace>/cameras</robotNamespace>
      </plugin>
    </sensor>
  </gazebo>
  <gazebo reference="right_hand_camera">
    <sensor name="right_hand_camera" type="camera">
      <update_rate>30.0</update_rate>
      <camera name="right_hand_camera">
        <pose>0.0 0.0 0.0 0.0 -1.570796327 1.570796327 </pose>
        <horizontal_fov>1.3962634</horizontal_fov>
        <image>
          <width>800</width>
          <height>800</height>
          <format>R8G8B8</format>
        </image>
        <clip>
          <near>0.02</near>
          <far>300</far>
        </clip>
        <noise>
          <type>gaussian</type>
          <mean>0.0</mean>
          <stddev>0.007</stddev>
        </noise>
      </camera>
      <plugin filename="libgazebo_ros_camera.so" name="camera_controller">
        <alwaysOn>true</alwaysOn>
        <updateRate>0.0</updateRate>
        <cameraName>right_hand_camera</cameraName>
        <imageTopicName>image</imageTopicName>
        <cameraInfoTopicName>camera_info</cameraInfoTopicName>
        <frameName>right_hand_camera</frameName>
        <hackBaseline>0.07</hackBaseline>
        <distortionK1>0.0</distortionK1>
        <distortionK2>0.0</distortionK2>
        <distortionK3>0.0</distortionK3>
        <distortionT1>0.0</distortionT1>
        <distortionT2>0.0</distortionT2>
        <robotNamespace>/cameras</robotNamespace>
      </plugin>
    </sensor>
  </gazebo>
  <gazebo reference="left_hand_camera">
    <sensor name="left_hand_camera" type="camera">
      <update_rate>30.0</update_rate>
      <camera name="left_hand_camera">
        <pose>0.0 0.0 0.0 0.0 -1.570796327 1.570796327 </pose>
        <horizontal_fov>1.3962634</horizontal_fov>
        <image>
          <width>800</width>
          <height>800</height>
          <format>R8G8B8</format>
        </image>
        <clip>
          <near>0.02</near>
          <far>300</far>
        </clip>
        <noise>
          <type>gaussian</type>
          <mean>0.0</mean>
          <stddev>0.007</stddev>
        </noise>
      </camera>
      <plugin filename="libgazebo_ros_camera.so" name="camera_controller">
        <alwaysOn>true</alwaysOn>
        <updateRate>0.0</updateRate>
        <cameraName>left_hand_camera</cameraName>
        <imageTopicName>image</imageTopicName>
        <cameraInfoTopicName>camera_info</cameraInfoTopicName>
        <frameName>left_hand_camera</frameName>
        <hackBaseline>0.07</hackBaseline>
        <distortionK1>0.0</distortionK1>
        <distortionK2>0.0</distortionK2>
        <distortionK3>0.0</distortionK3>
        <distortionT1>0.0</distortionT1>
        <distortionT2>0.0</distortionT2>
        <robotNamespace>/cameras</robotNamespace>
      </plugin>
    </sensor>
  </gazebo>
  <gazebo reference="display">
    <visual>
      <plugin name="screen_video_controller" filename="libgazebo_ros_video.so">
        <height>600</height>
        <width>1024</width>
        <topicName>/robot/xdisplay</topicName>
      </plugin>
    </visual>
  </gazebo>
  <gazebo reference="sonar_ring">
    <sensor name="sonar" type="ray">
      <pose>0.0 0.0 0.0 0.0 0.0 0.0</pose>
      <ray>
        <scan>
          <horizontal>
            <samples>12</samples>
            <resolution>1.0</resolution>
            <min_angle>-3.14</min_angle>
            <max_angle>3.14</max_angle>
          </horizontal>
          <vertical>
            <samples>2</samples>
            <resolution>1.0</resolution>
            <min_angle>-0.001</min_angle>
            <max_angle>0</max_angle>
          </vertical>
        </scan>
        <range>
          <min>0.05</min>
          <max>50.0</max>
        </range>
      </ray>
      <plugin name="sonar_plugin" filename="libgazebo_ros_block_laser.so">
        <gaussianNoise>0.00</gaussianNoise>
        <alwaysOn>true</alwaysOn>
        <updateRate>100.0</updateRate>
        <topicName>/robot/sonar/head_sonar/state</topicName>
        <frameName>sonar_ring</frameName>
      </plugin>
      <always_on>true</always_on>
      <update_rate>100.0</update_rate>
    </sensor>
  </gazebo>
  <gazebo reference="right_hand_range">
    <sensor name="ir_right" type="ray">
      <pose>0.0 0.0 0.0 0.0 0.0 0.0</pose>
      <ray>
        <scan>
          <horizontal>
            <samples>1</samples>
            <resolution>1.0</resolution>
            <min_angle>-0.5</min_angle>
            <max_angle>0.5</max_angle>
          </horizontal>
        </scan>
        <range>
          <min>0.004</min>
          <max>0.4</max>
        </range>
      </ray>
      <plugin name="plugin_3" filename="libgazebo_ros_laser.so">
        <gaussianNoise>0.005</gaussianNoise>
        <alwaysOn>true</alwaysOn>
        <updateRate>100</updateRate>
        <topicName>/sim/laserscan/right_hand_range/state</topicName>
        <frameName>right_hand_range</frameName>
      </plugin>
      <always_on>true</always_on>
      <update_rate>100.0</update_rate>
    </sensor>
  </gazebo>
  <gazebo reference="left_hand_range">
    <sensor name="ir_left" type="ray">
      <pose>0.0 0.0 0.0 0.0 0.0 0.0</pose>
      <ray>
        <scan>
          <horizontal>
            <samples>1</samples>
            <resolution>1.0</resolution>
            <min_angle>-0.5</min_angle>
            <max_angle>0.5</max_angle>
          </horizontal>
        </scan>
        <range>
          <min>0.004</min>
          <max>0.4</max>
        </range>
      </ray>
      <plugin name="plugin_4" filename="libgazebo_ros_laser.so">
        <gaussianNoise>0.005</gaussianNoise>
        <alwaysOn>true</alwaysOn>
        <updateRate>100</updateRate>
        <topicName>/sim/laserscan/left_hand_range/state</topicName>
        <frameName>left_hand_range</frameName>
      </plugin>
      <always_on>true</always_on>
      <update_rate>100.0</update_rate>
    </sensor>
  </gazebo>
</robot>
